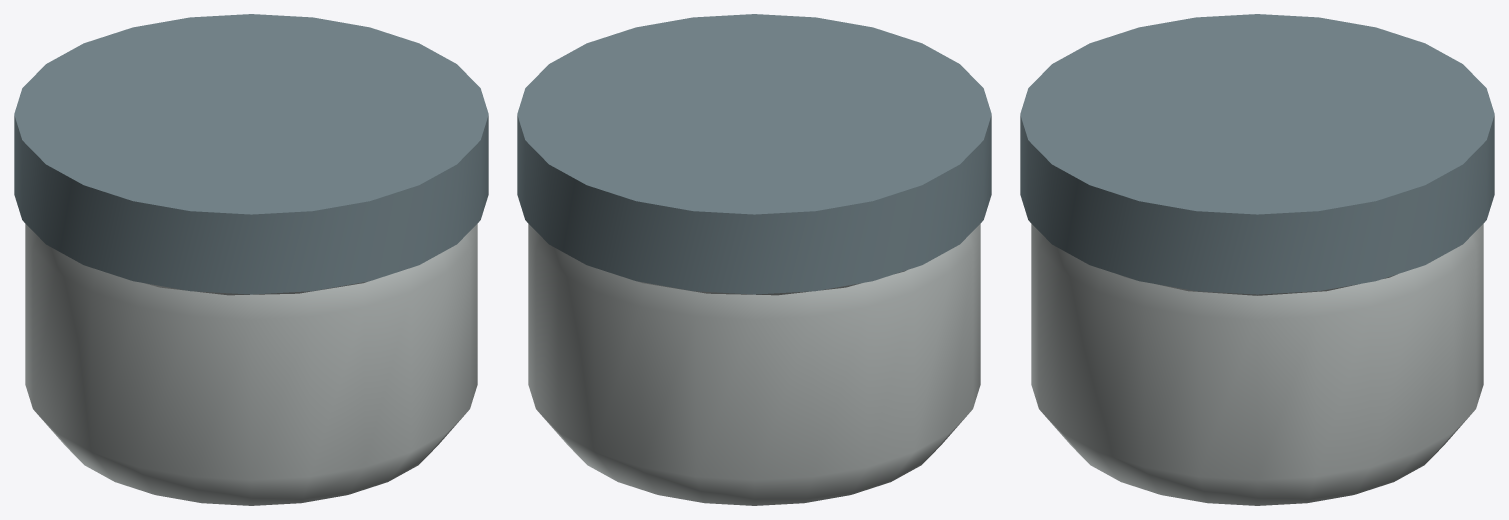
File: cosmetic-jar.glb
3 views of the same model, side by side, from view 1: azimuth 30°, elevation 25°; view 2: azimuth 150°, elevation 25°; view 3: azimuth 270°, elevation 25° (orthographic).
Parts seen in each view (by area): view 1: lid, cream_jar; view 2: lid, cream_jar; view 3: lid, cream_jar.
Boxes of the visible parts, x1=… form: lid: x1=14, y1=14, x2=488, y2=294; cream_jar: x1=25, y1=224, x2=477, y2=505; lid: x1=517, y1=14, x2=991, y2=294; cream_jar: x1=528, y1=224, x2=980, y2=505; lid: x1=1020, y1=14, x2=1494, y2=294; cream_jar: x1=1031, y1=224, x2=1483, y2=505.
Bounding box in the file's own units: 0.086 × 0.062 × 0.086.
